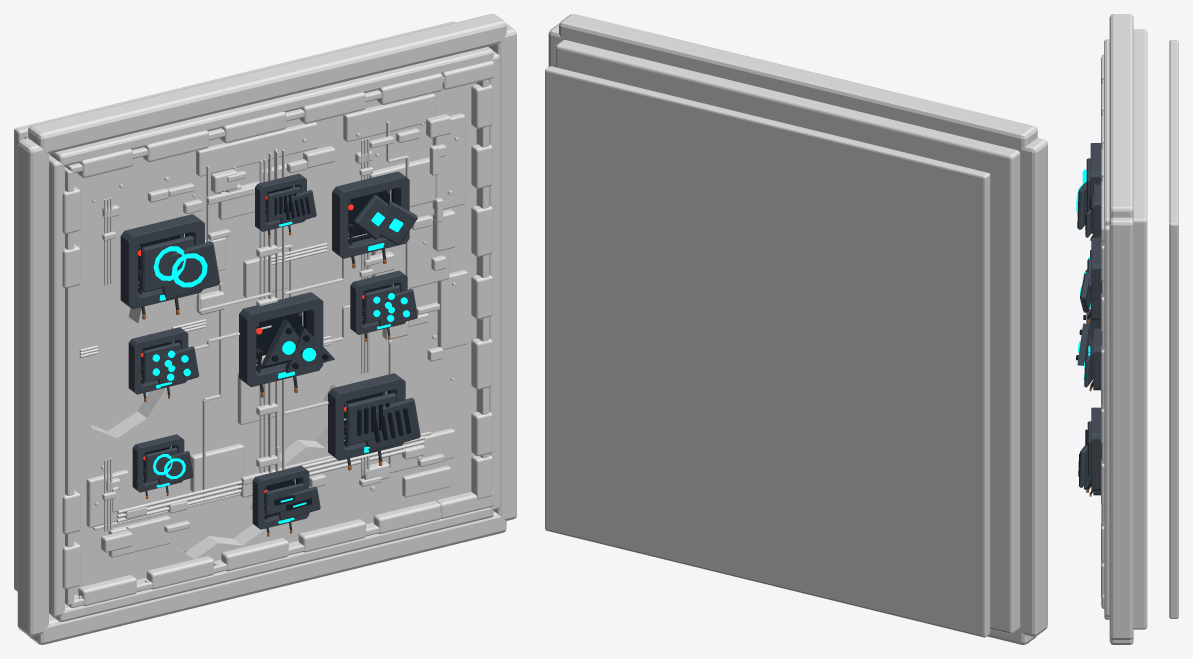
File: QF_MachineCube_Face1_NodeKitV2.fbx
The picture shows the model from 3 angles, left to right: view 1: azimuth 30°, elevation 25°; view 2: azimuth 150°, elevation 25°; view 3: azimuth 270°, elevation 25°; orthographic projection. The views are drawn at different scales.
Parts seen in each view (by area): view 1: C2_DamagedSkin, C2_RearBulkhead, C2_OuterFrame_Left, C2_OuterFrame_Top, C2_OuterFrame_Bottom, C2_OuterFrame_Right, C2_MiddleFrame_Left, C2_MiddleFrame_Top, C2_MiddleFrame_Bottom, C2_MiddleFrame_Right, F1S03_DAMAGED_NODE_04_RELAY_DAMAGED_FrameIntegrated, C2_MacroPanel_00 (+64 smaller); view 2: C2_RearBulkhead, C2_DamagedSkin, C2_OuterFrame_Left, C2_OuterFrame_Top; view 3: C2_OuterFrame_Right, C2_DamagedSkin, C2_RearBulkhead, C2_OuterFrame_Top, C2_MiddleFrame_Right, C2_MiddleFrame_Top, F1S05_DAMAGED_NODE_03_VENT_DAMAGED_FrameIntegrated, F1S01_DAMAGED_NODE_05_DIAMOND_DAMAGED_FrameIntegrated, F1S04_DAMAGED_NODE_02_SENSOR_DAMAGED_FrameIntegrated, F1S00_DAMAGED_NODE_01_RING_DAMAGED_FrameIntegrated, F1S08_DAMAGED_NODE_03_VENT_DAMAGED_FrameIntegrated, F1S00_DAMAGED_RingPlate.001 (+8 smaller).
Boxes of the visible parts, left/top/right/bottom form: C2_DamagedSkin: left=24, top=82, right=476, bottom=595; C2_RearBulkhead: left=14, top=21, right=455, bottom=591; C2_OuterFrame_Left: left=17, top=138, right=48, bottom=636; C2_OuterFrame_Top: left=28, top=14, right=506, bottom=153; C2_OuterFrame_Bottom: left=29, top=511, right=506, bottom=644; C2_OuterFrame_Right: left=488, top=23, right=516, bottom=520; C2_MiddleFrame_Left: left=49, top=155, right=64, bottom=617; C2_MiddleFrame_Top: left=50, top=47, right=493, bottom=166; C2_MiddleFrame_Bottom: left=52, top=507, right=493, bottom=621; C2_MiddleFrame_Right: left=489, top=51, right=499, bottom=510; F1S03_DAMAGED_NODE_04_RELAY_DAMAGED_FrameIntegrated: left=239, top=292, right=323, bottom=386; C2_MacroPanel_00: left=196, top=122, right=317, bottom=176; C2_RearBulkhead: left=545, top=66, right=990, bottom=637; C2_DamagedSkin: left=555, top=40, right=1020, bottom=634; C2_OuterFrame_Left: left=1019, top=138, right=1047, bottom=636; C2_OuterFrame_Top: left=559, top=14, right=1037, bottom=152; C2_OuterFrame_Right: left=1109, top=217, right=1133, bottom=639; C2_DamagedSkin: left=1133, top=29, right=1147, bottom=629; C2_RearBulkhead: left=1169, top=40, right=1178, bottom=618; C2_OuterFrame_Top: left=1109, top=14, right=1133, bottom=218; C2_MiddleFrame_Right: left=1104, top=225, right=1109, bottom=616; C2_MiddleFrame_Top: left=1104, top=39, right=1109, bottom=225; F1S05_DAMAGED_NODE_03_VENT_DAMAGED_FrameIntegrated: left=1091, top=407, right=1101, bottom=491; F1S01_DAMAGED_NODE_05_DIAMOND_DAMAGED_FrameIntegrated: left=1091, top=237, right=1101, bottom=320; F1S04_DAMAGED_NODE_02_SENSOR_DAMAGED_FrameIntegrated: left=1093, top=328, right=1101, bottom=390; F1S00_DAMAGED_NODE_01_RING_DAMAGED_FrameIntegrated: left=1090, top=143, right=1100, bottom=233; F1S08_DAMAGED_NODE_03_VENT_DAMAGED_FrameIntegrated: left=1093, top=184, right=1100, bottom=237; F1S00_DAMAGED_RingPlate.001: left=1077, top=182, right=1086, bottom=229.
Bounding box in the file's own units: 8.86 × 8.86 × 1.89.
